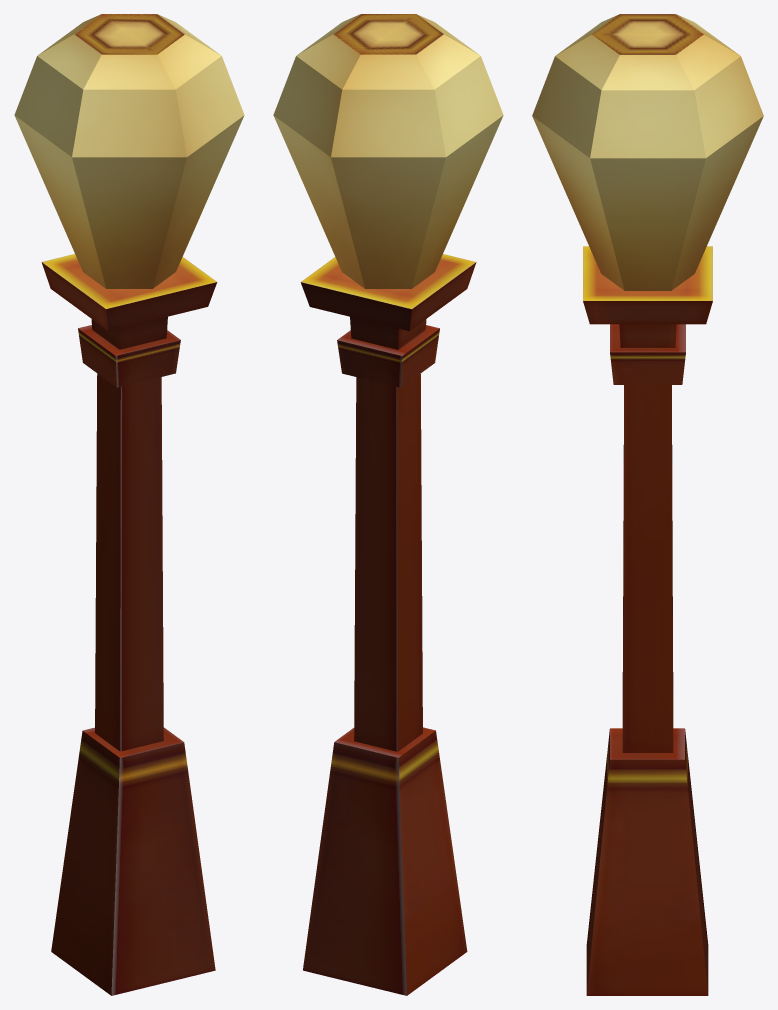
Rendered from FB_Chengxiangfu_Deng.FBX.
3 views of the same model, side by side, from view 1: azimuth 30°, elevation 25°; view 2: azimuth 150°, elevation 25°; view 3: azimuth 270°, elevation 25° (orthographic).
Visible parts, largest first — view 1: Object06, Object07; view 2: Object06, Object07; view 3: Object06, Object07.
Boxes of the visible parts, <box> form: Object06: <box>41,254,217,995</box>; Object07: <box>14,14,244,288</box>; Object06: <box>300,254,476,995</box>; Object07: <box>273,14,503,288</box>; Object06: <box>583,246,712,995</box>; Object07: <box>532,14,763,290</box>.
Size of the model in its own units: 0.6738 by 3.46 by 0.7781.
